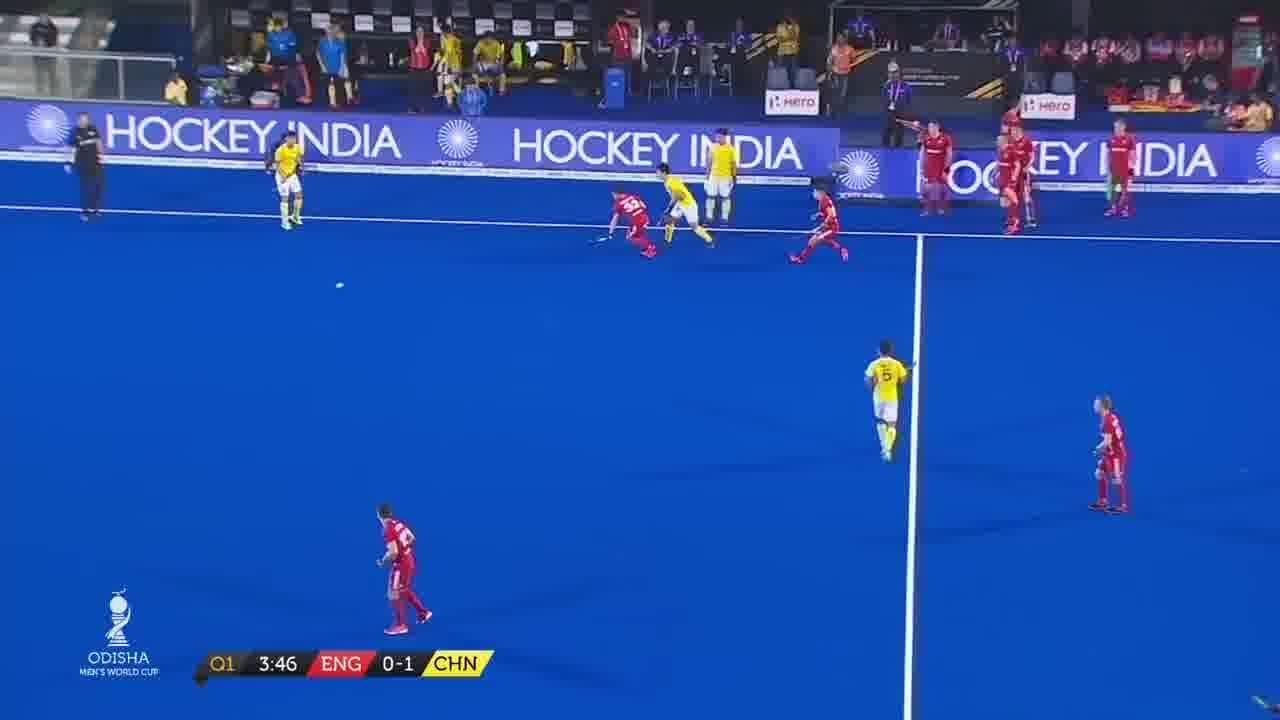ball: (320, 270, 360, 304)
